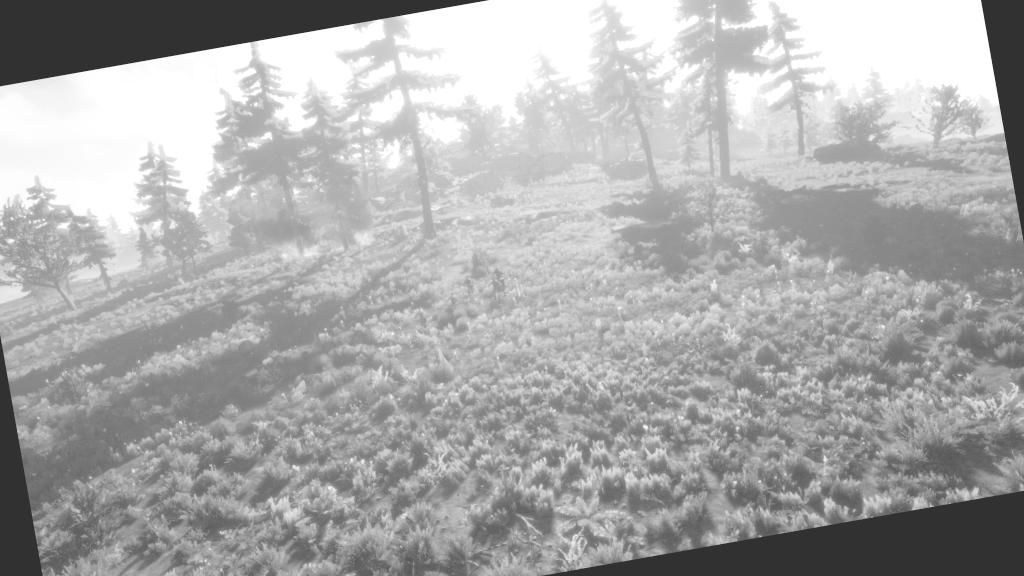Fire: (329, 220, 383, 254), (276, 235, 321, 266)
human: (479, 255, 523, 310), (440, 266, 486, 316), (402, 296, 444, 344)
smoke: (251, 203, 319, 243), (331, 198, 376, 225)
